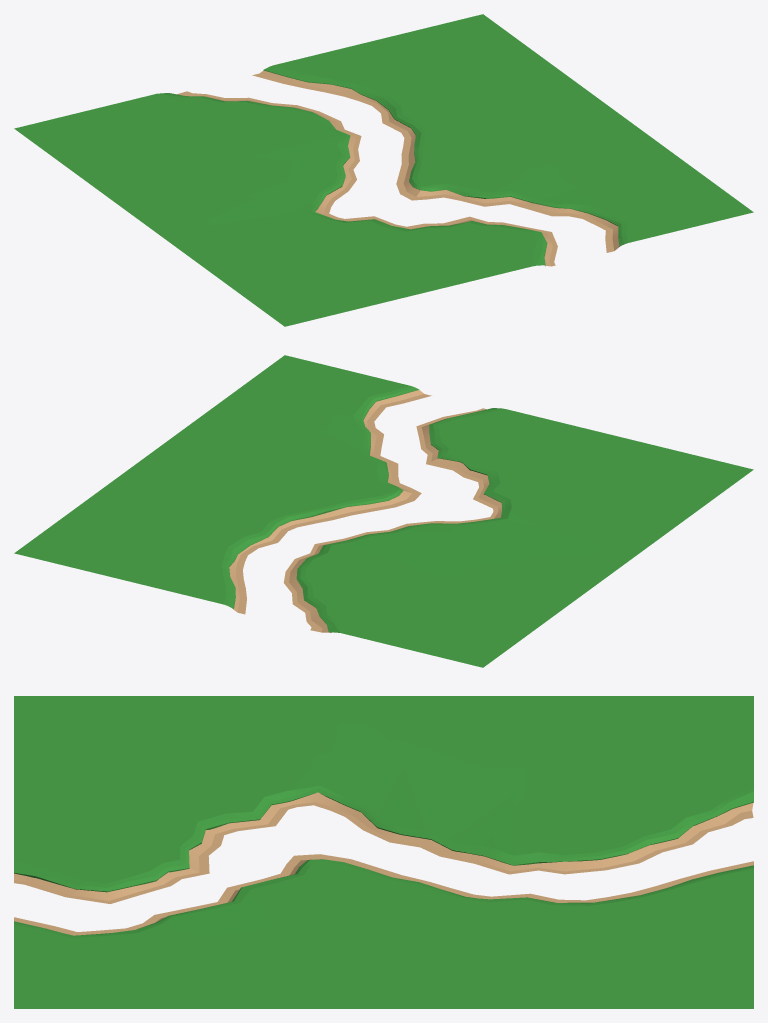
Rendered from SM_RF_Terrain_01.fbx.
3 views of the same model, one above another, from view 1: azimuth 30°, elevation 25°; view 2: azimuth 150°, elevation 25°; view 3: azimuth 270°, elevation 25° (orthographic). The views are drawn at different scales.
Visible parts, largest first — view 1: Rainforest_Terrain; view 2: Rainforest_Terrain; view 3: Rainforest_Terrain.
Boxes of the visible parts, bbox=[...] form: Rainforest_Terrain: bbox=[14, 14, 753, 326]; Rainforest_Terrain: bbox=[14, 355, 753, 667]; Rainforest_Terrain: bbox=[14, 696, 753, 1008].
Bounding box in the file's own units: 15000 × 150 × 15000.
